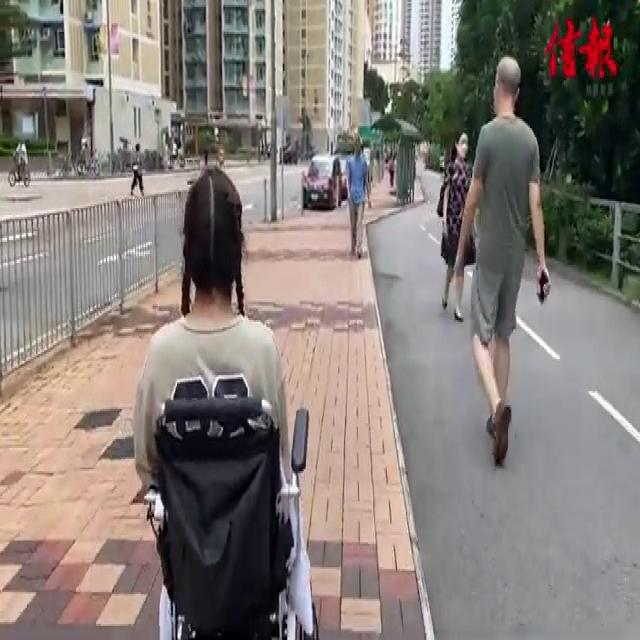wheelchairs: (117, 367, 327, 640)
